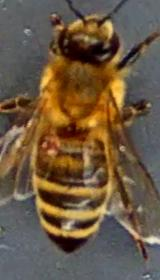varroa_mite: (34, 134, 62, 156)
